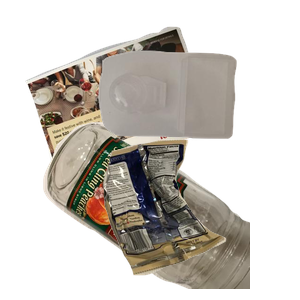glass: (41, 120, 281, 300)
paper: (23, 24, 232, 199)
plastic: (96, 48, 300, 179)
trash: (101, 137, 300, 300)
